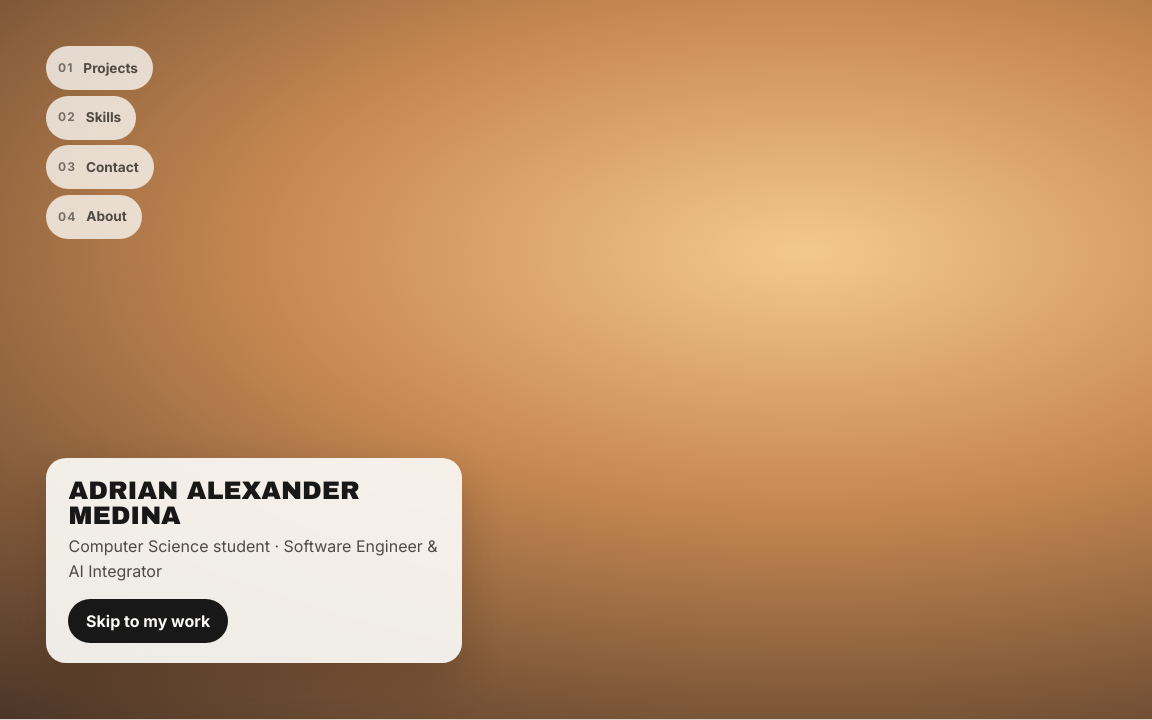
Test: RoomHero › previews are built from the real content
Click the button "03 Contact": (100, 167) [46, 145, 154, 189]
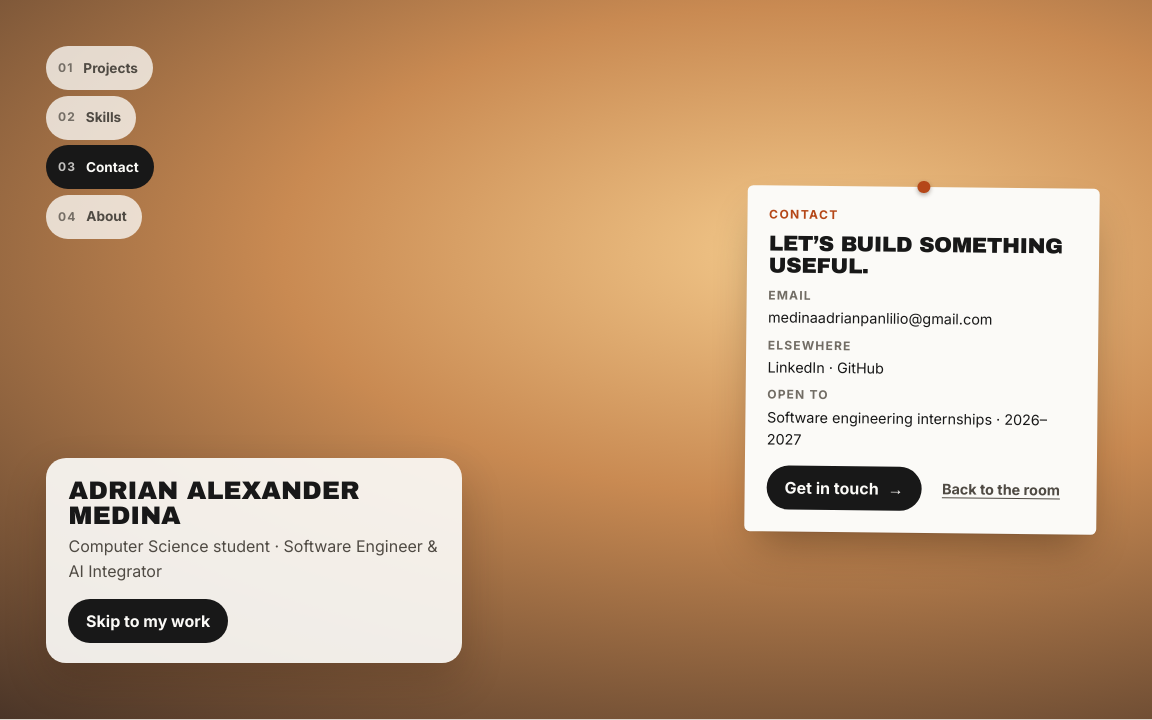
Expected: the element that starts with "Contact" shows "medinaadrianpanlilio@gmail.com", [768, 308, 993, 327]
Expected: the number of links is 1, [766, 465, 922, 511]
Click the button "01 Projects": (100, 68) [46, 46, 153, 90]
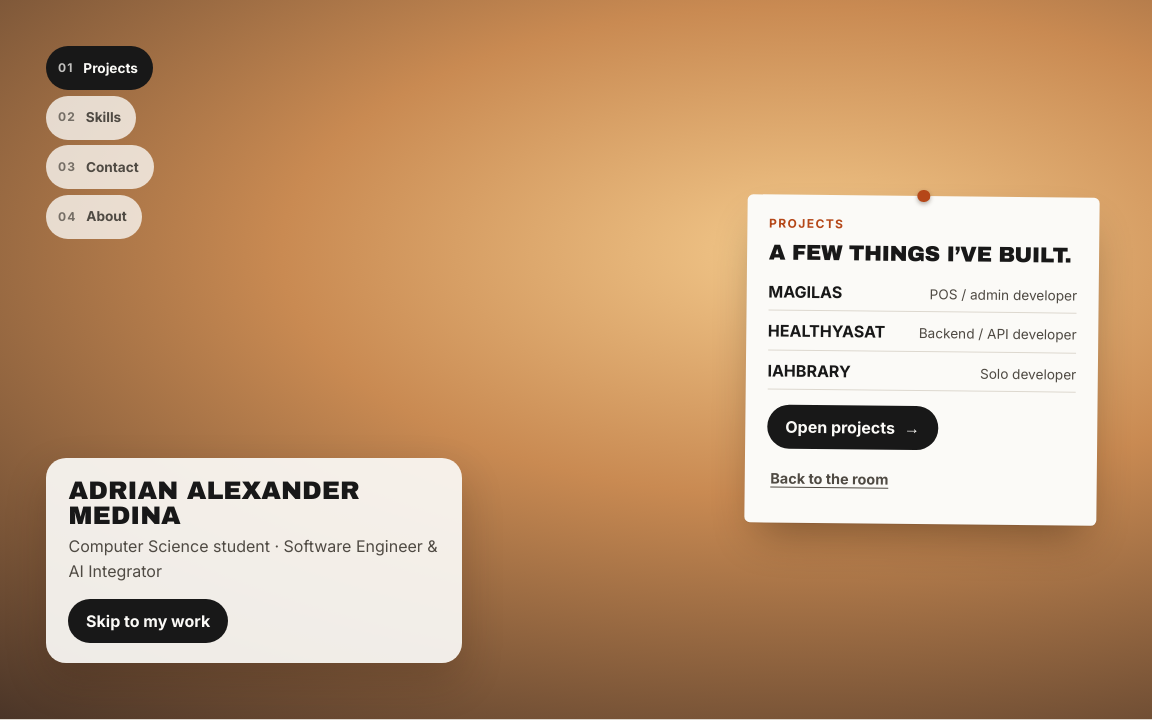
Expected: the element that starts with "Projects" shows "MAGILAS", [768, 281, 842, 302]
